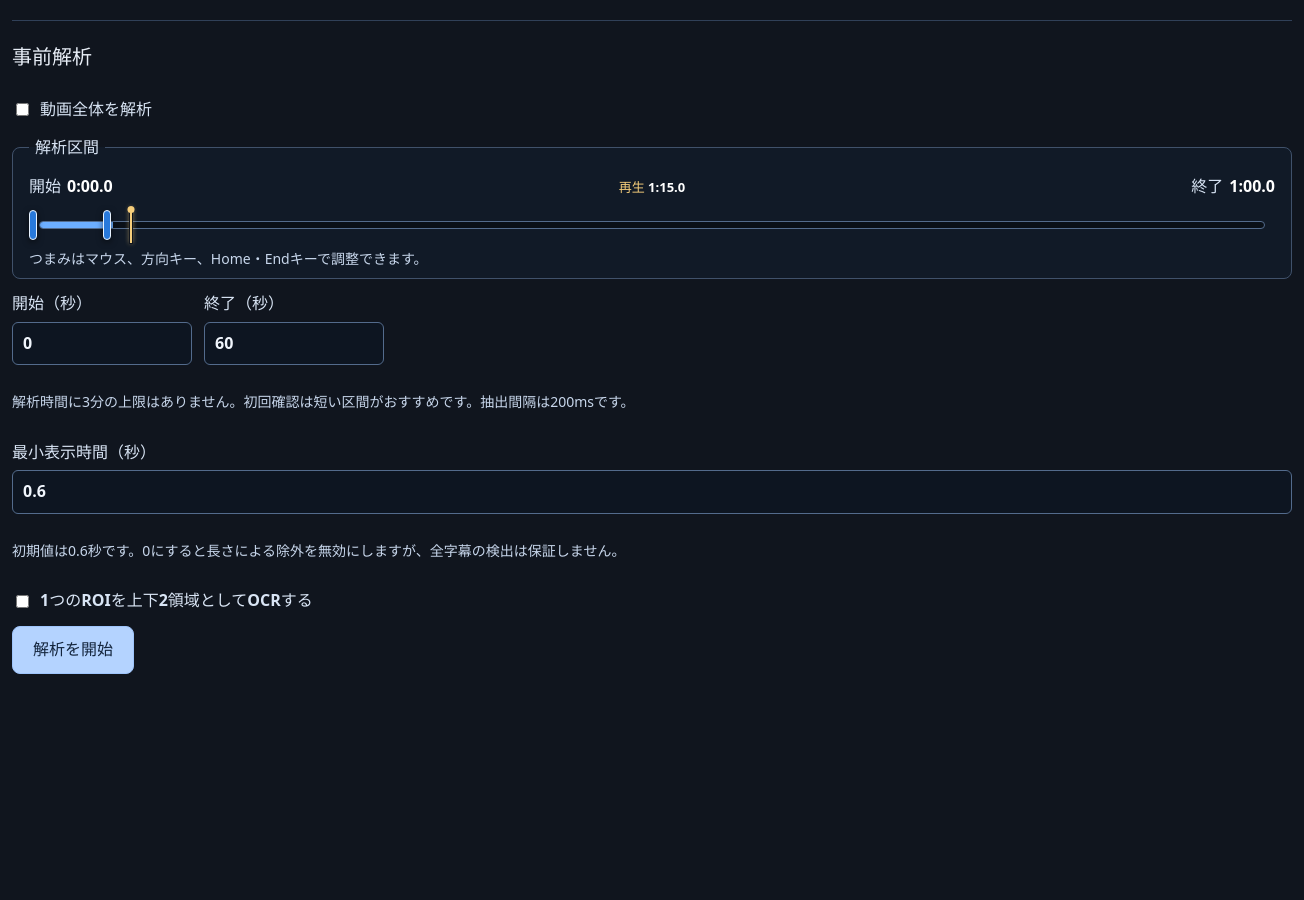
disables settings while the analyzer start request is pending
Click the button "解析を開始": (73, 650) [12,626,134,674]
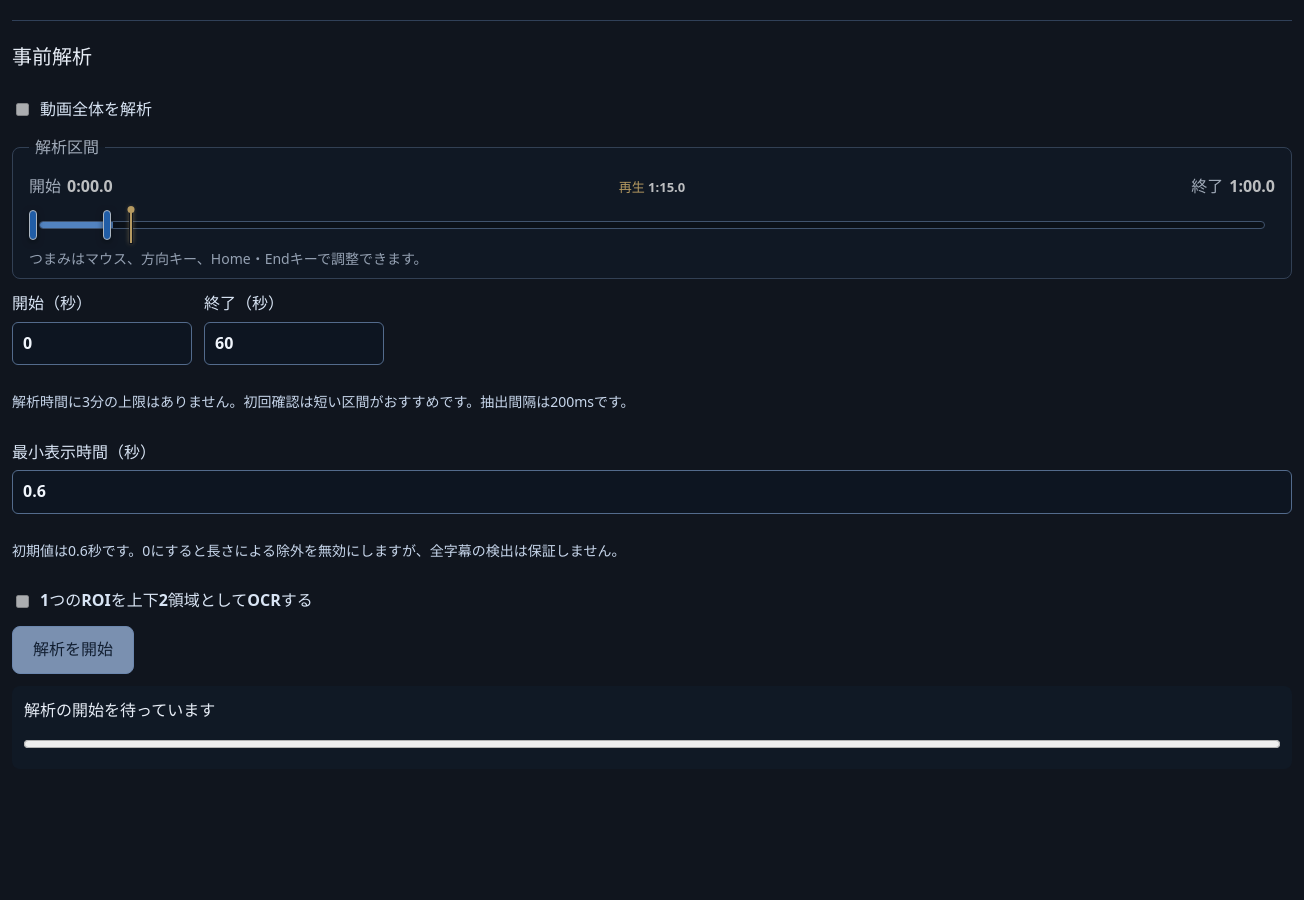
Expected: the slider named "解析開始" is disabled, [29,204,1275,246]
Now the checkbox labelled "動画全体を解析" is disabled, box [16,103,29,116]
